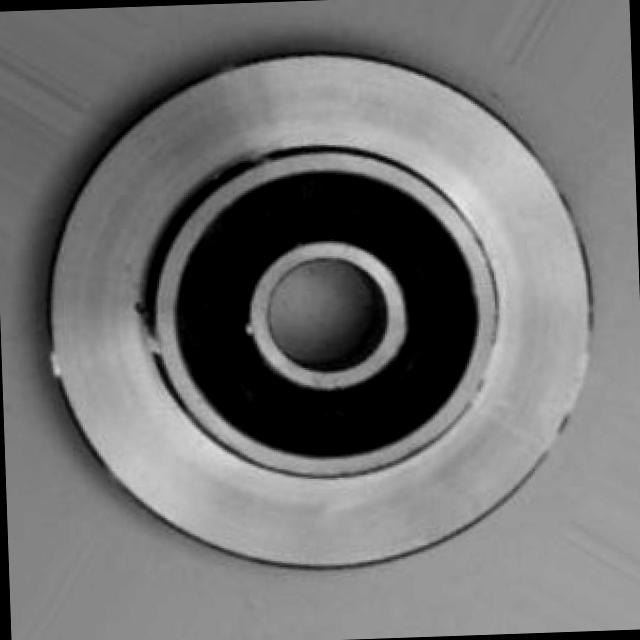Defect: (124, 294, 164, 359)
